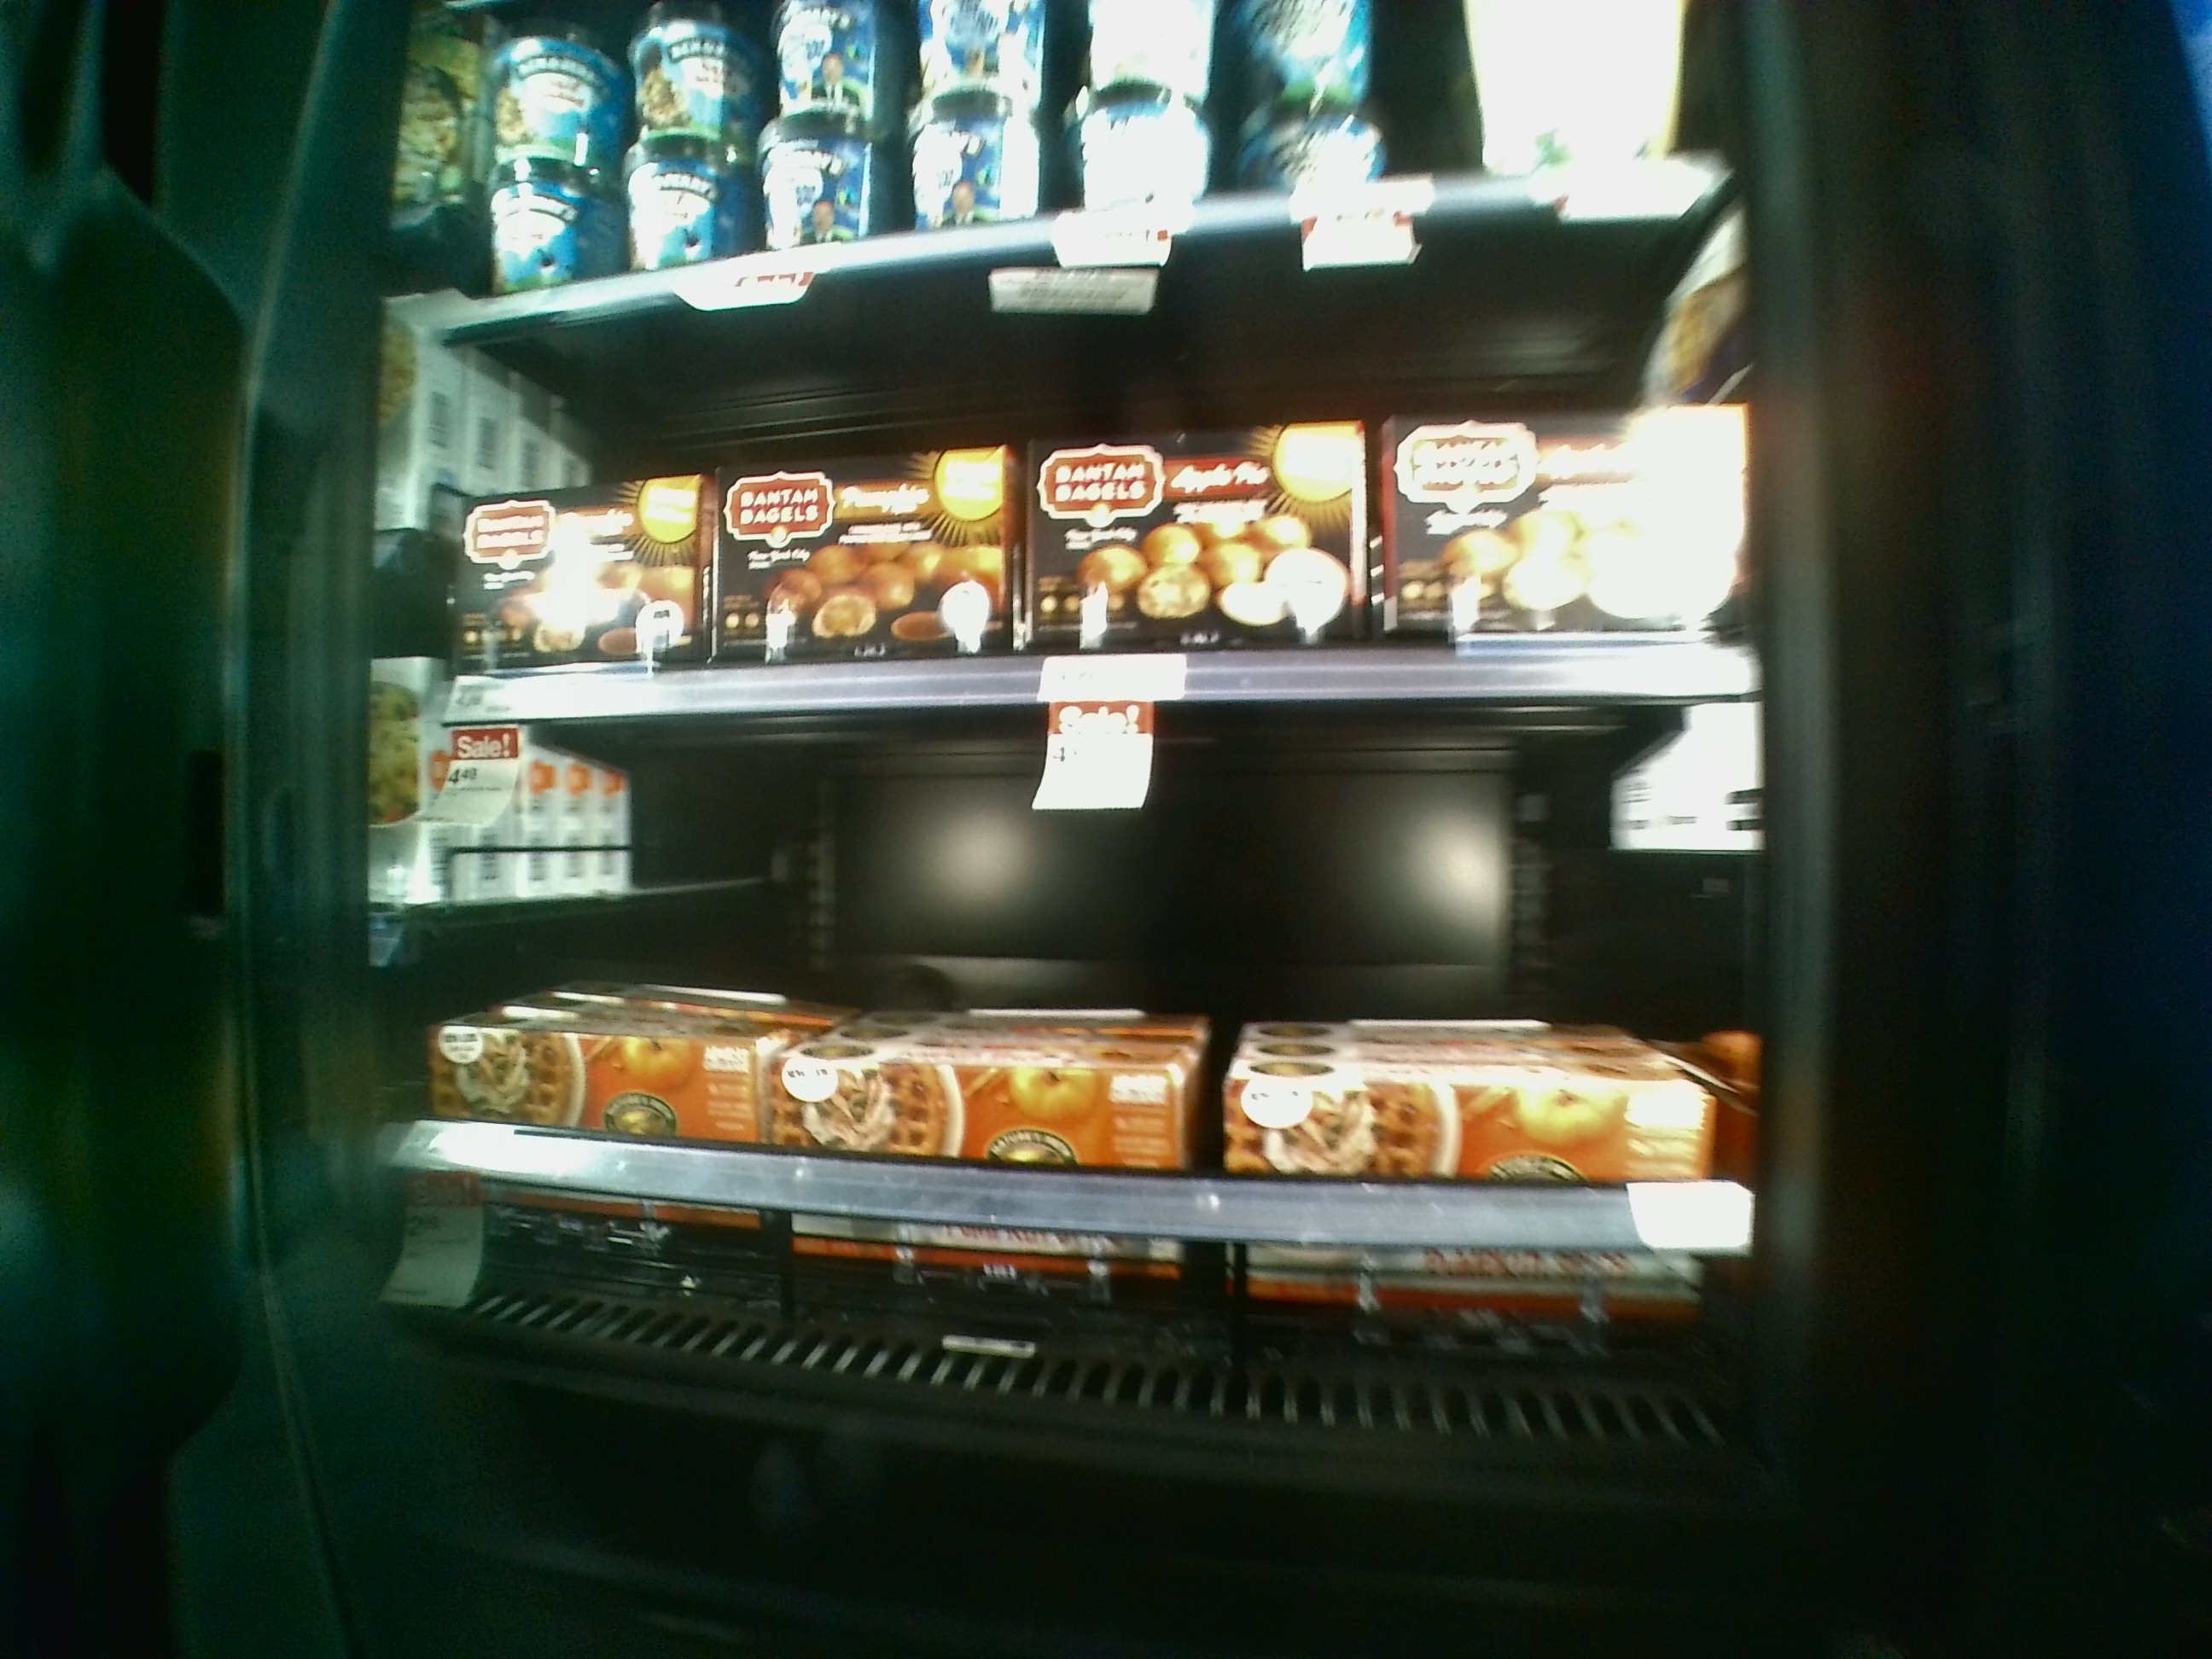shelf: (415, 680, 1770, 1396), (423, 268, 1743, 704)
